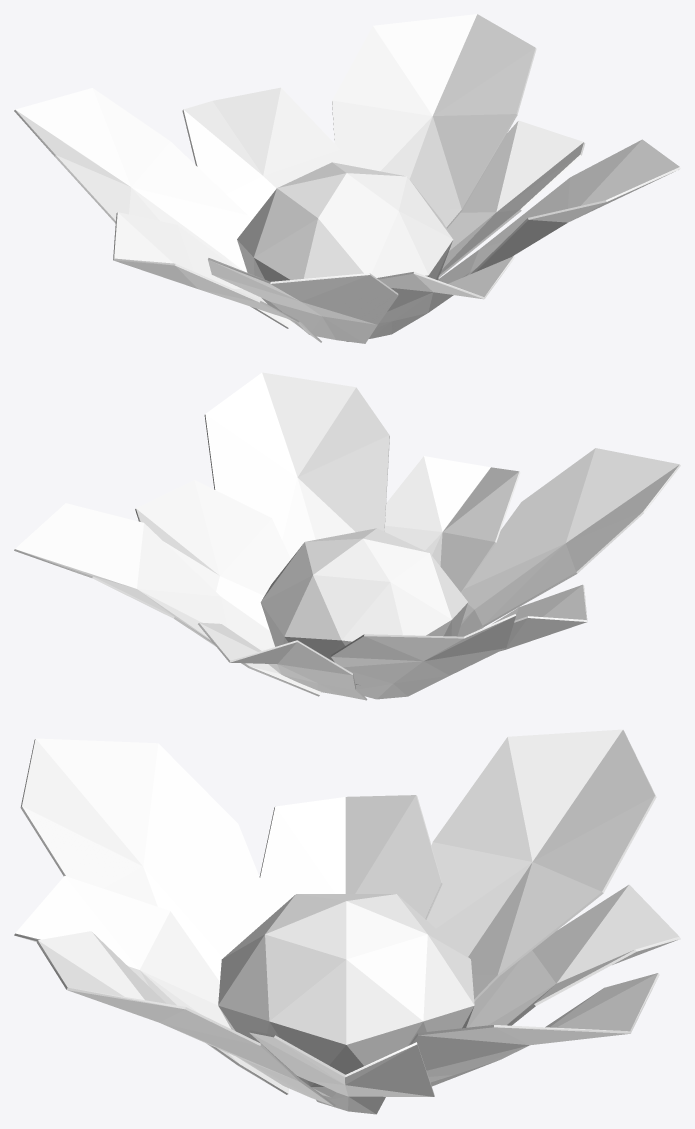
The model's file is Crop_Cauliflower_STAGE_2_01.glb.
3 views of the same model, one above another, from view 1: azimuth 30°, elevation 25°; view 2: azimuth 150°, elevation 25°; view 3: azimuth 270°, elevation 25° (orthographic). The views are drawn at different scales.
Visible parts, largest first — view 1: Crop_Cauliflower_STAGE_2_01; view 2: Crop_Cauliflower_STAGE_2_01; view 3: Crop_Cauliflower_STAGE_2_01.
Boxes of the visible parts, x1,y1,x2,y2 form: Crop_Cauliflower_STAGE_2_01: [14, 14, 680, 343]; Crop_Cauliflower_STAGE_2_01: [14, 372, 680, 700]; Crop_Cauliflower_STAGE_2_01: [14, 729, 680, 1114].
Size of the model in its own units: 0.3627 by 0.1375 by 0.3541.
Materials: 1 (1 with a texture image).
